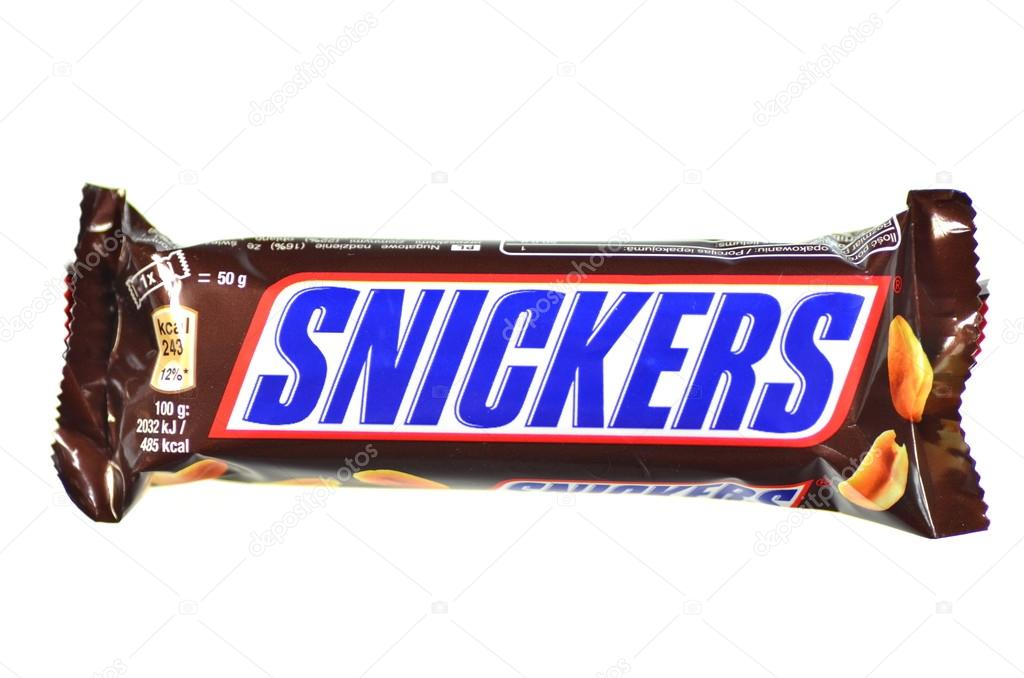snickers: (43, 159, 1007, 557)
